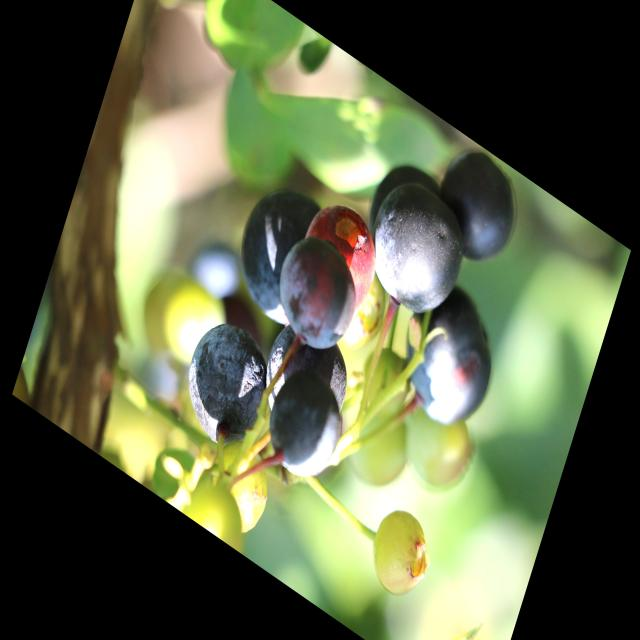blueberry: (385, 258, 512, 452), (355, 156, 480, 338), (220, 160, 332, 342), (249, 295, 363, 460), (170, 299, 281, 467), (421, 128, 532, 288), (264, 215, 374, 373), (254, 348, 356, 501), (360, 142, 442, 272), (175, 220, 252, 326)
blueberry-halfripe: (297, 188, 388, 312)
blueberry-unripe: (394, 393, 479, 508), (362, 494, 440, 612), (197, 430, 277, 542), (339, 398, 412, 502), (352, 337, 420, 435)
